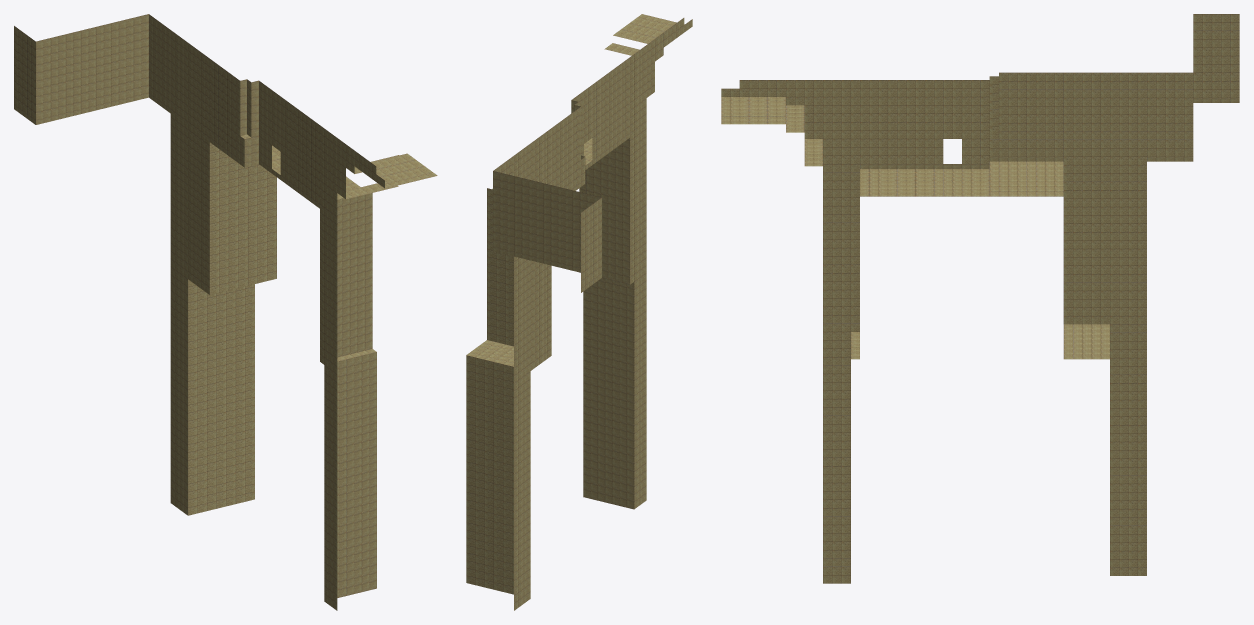
The model's file is geometry-02-initialexterior.FBX.
3 renders of one model, left to right at view 1: azimuth 30°, elevation 25°; view 2: azimuth 150°, elevation 25°; view 3: azimuth 270°, elevation 25°, orthographic. The views are drawn at different scales.
Parts seen in each view (by area): view 1: Initial-exterior; view 2: Initial-exterior; view 3: Initial-exterior.
Boxes of the visible parts, box(x1,y1,x2,y2) form: Initial-exterior: box(14, 14, 437, 610); Initial-exterior: box(466, 14, 692, 610); Initial-exterior: box(721, 14, 1239, 583).
Bounding box in the file's own units: 478 × 1200 × 1120.
Materials: 1 (1 with a texture image).
